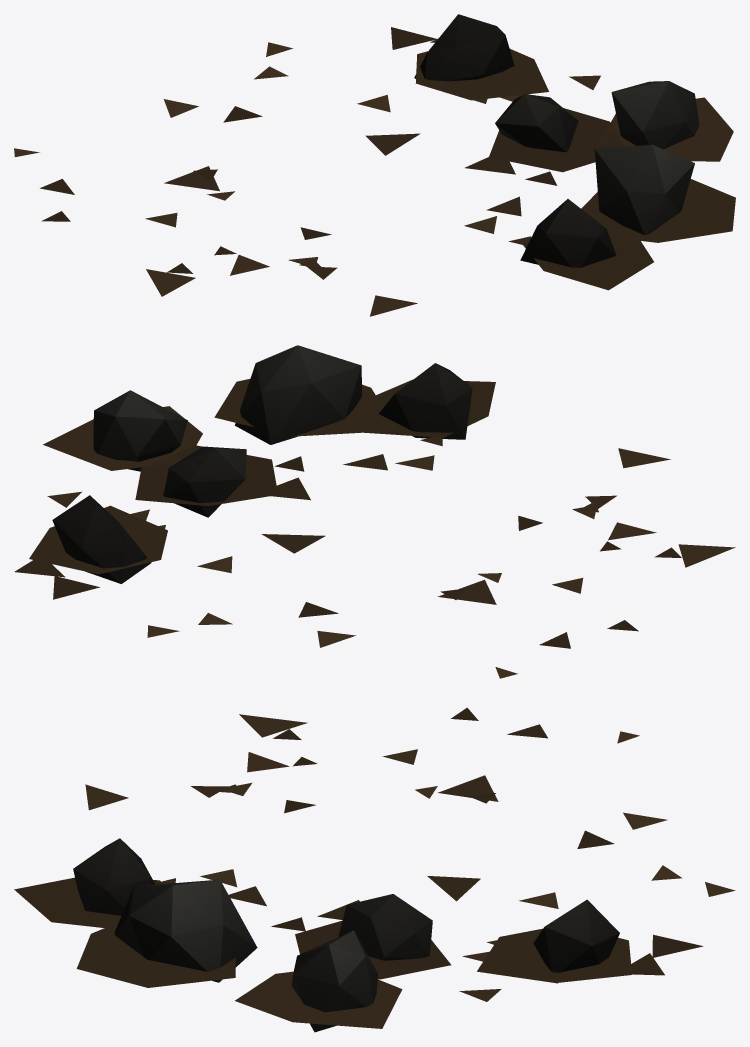
The model's file is coal-sparse.glb.
3 views of the same model, one above another, from view 1: azimuth 30°, elevation 25°; view 2: azimuth 150°, elevation 25°; view 3: azimuth 270°, elevation 25° (orthographic). The views are drawn at different scales.
Parts seen in each view (by area): view 1: coal-sparse; view 2: coal-sparse; view 3: coal-sparse.
Boxes of the visible parts, bbox=[...] form: coal-sparse: bbox=[14, 14, 735, 316]; coal-sparse: bbox=[14, 345, 735, 678]; coal-sparse: bbox=[14, 707, 735, 1032].
Size of the model in its own units: 1.26 by 0.1574 by 1.19.
